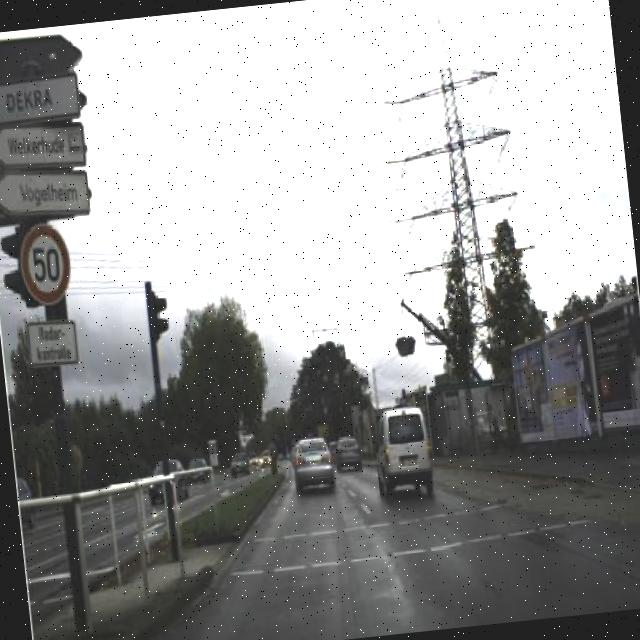Ograniczenie predkosci do 50: (15, 218, 77, 312)
